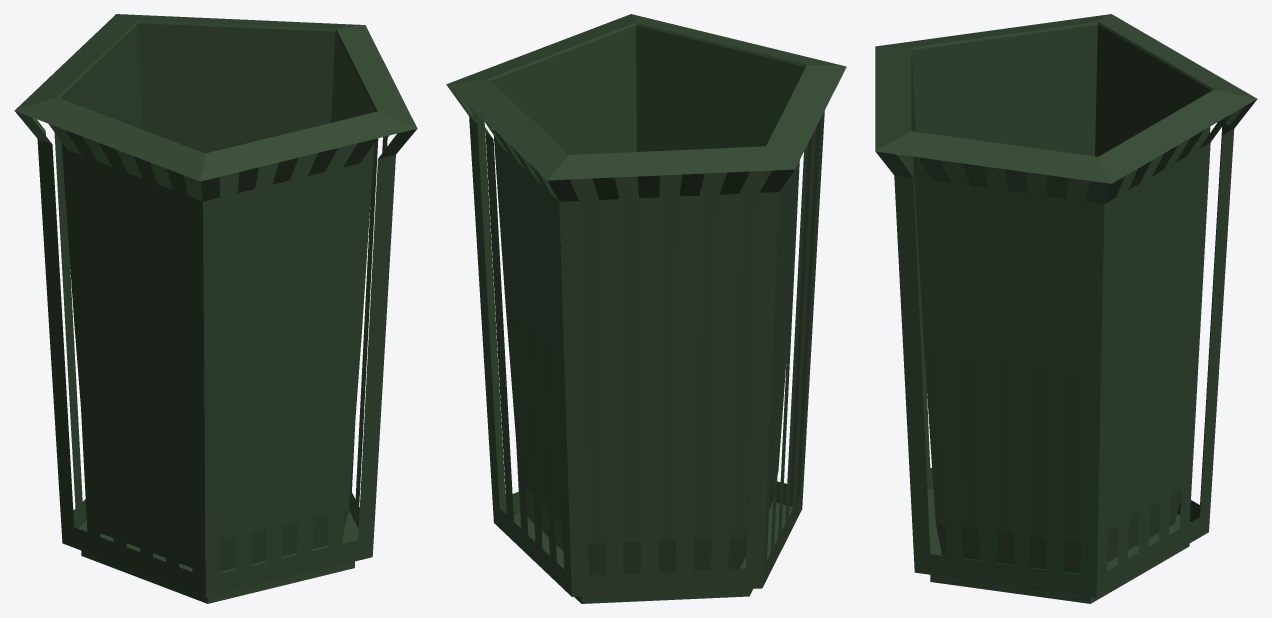
The model's file is City Trash.fbx.
3 views of the same model, side by side, from view 1: azimuth 30°, elevation 25°; view 2: azimuth 150°, elevation 25°; view 3: azimuth 270°, elevation 25° (orthographic).
Parts seen in each view (by area): view 1: Trash Can; view 2: Trash Can; view 3: Trash Can.
Boxes of the visible parts, bbox=[...] form: Trash Can: bbox=[14, 14, 417, 603]; Trash Can: bbox=[446, 14, 846, 603]; Trash Can: bbox=[875, 14, 1257, 603].
Size of the model in its own units: 81.3 by 102 by 77.33.
